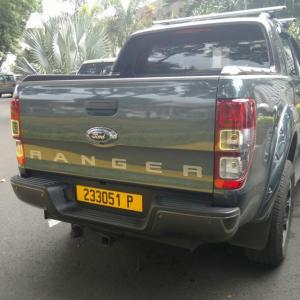Plate: (76, 185, 142, 212)
